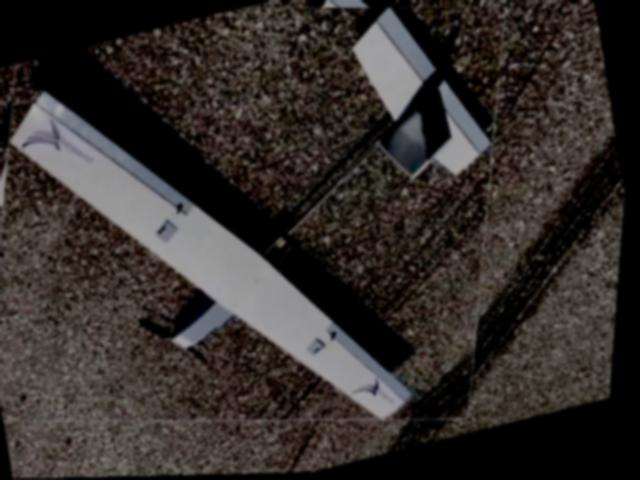insansiz-hava-araci: (0, 0, 569, 480)
